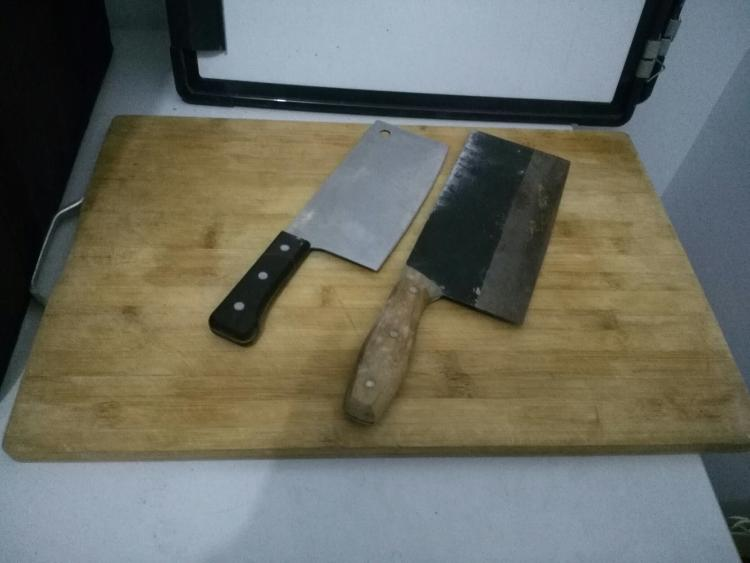knief: (197, 91, 451, 350)
